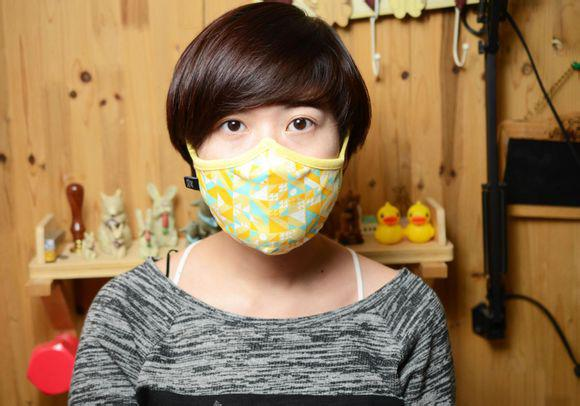OK: (200, 99, 337, 247)
